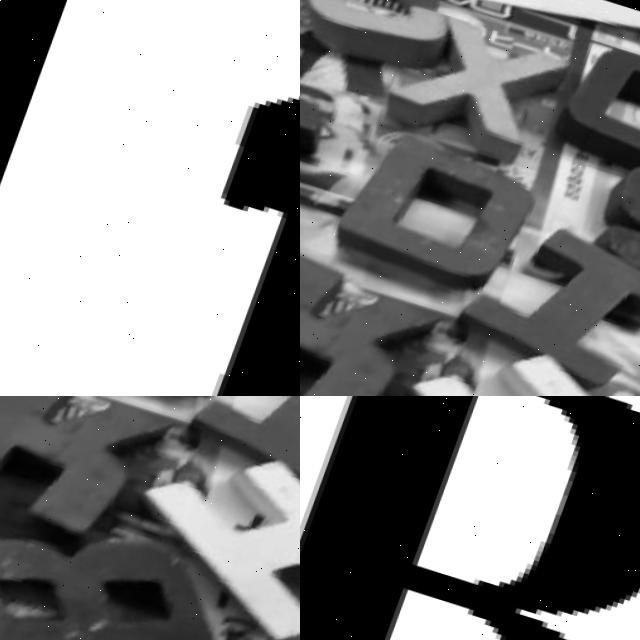1: (102, 12, 300, 396)
B: (300, 396, 640, 640)
C: (300, 0, 463, 62)
D: (339, 124, 540, 295)
H: (126, 429, 300, 640), (394, 323, 640, 396)
I: (477, 214, 640, 396), (209, 396, 300, 504)
K: (0, 396, 181, 553), (300, 235, 449, 396)
O: (558, 31, 640, 169)
S: (591, 152, 640, 302)
X: (389, 5, 570, 154)
